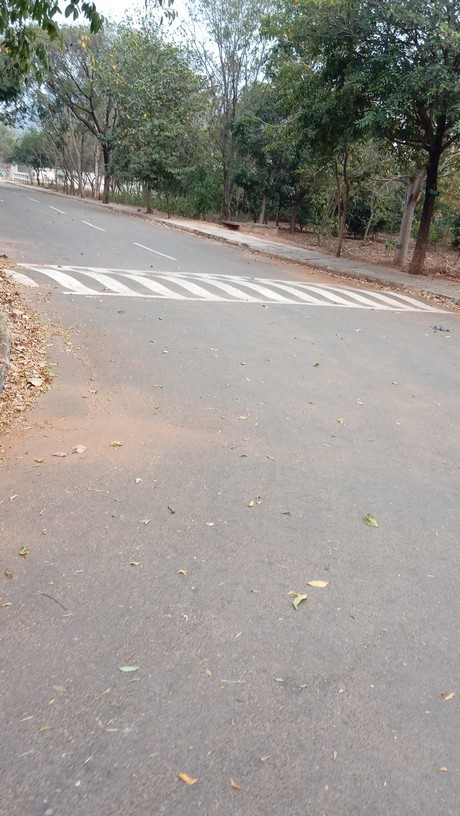bump: (3, 259, 450, 317)
